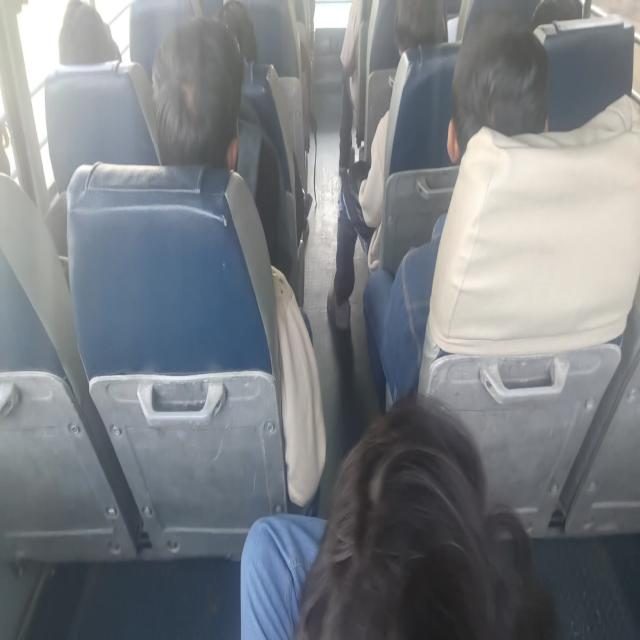person: (284, 388, 542, 640), (445, 24, 543, 165), (157, 25, 243, 174), (57, 0, 123, 64), (393, 0, 453, 65), (208, 1, 262, 71), (0, 95, 23, 176), (533, 0, 583, 30)
